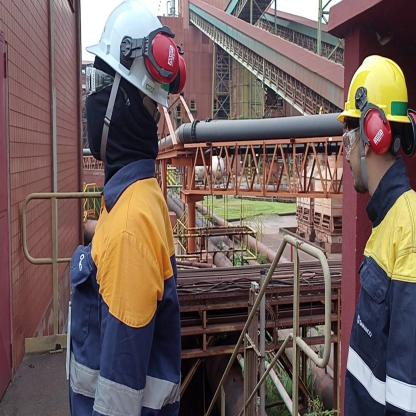Balaclava: (85, 63, 158, 170)
C_eletrica: (348, 215, 416, 416)
Capacete: (94, 0, 180, 64), (341, 53, 411, 123)
Operacional: (67, 180, 182, 416)
